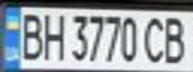0: (118, 12, 142, 63)
3: (66, 11, 90, 62)
7: (84, 11, 106, 62), (103, 12, 124, 63)
B: (157, 12, 193, 65), (15, 10, 45, 61)
C: (139, 13, 169, 64)
H: (36, 9, 69, 61)
